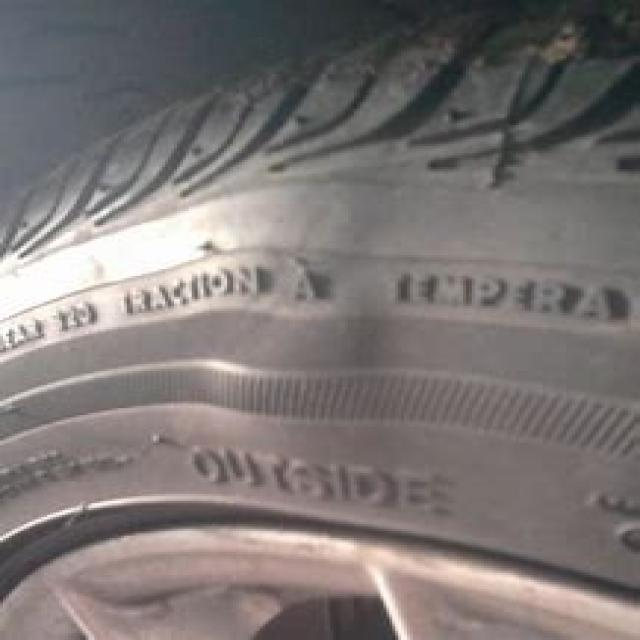Bulge: (193, 259, 401, 506)
